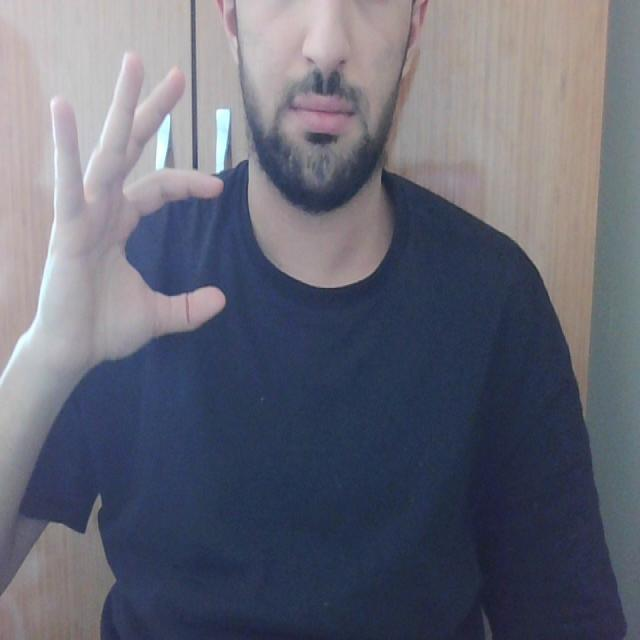Tuvalet: (22, 41, 264, 378)
